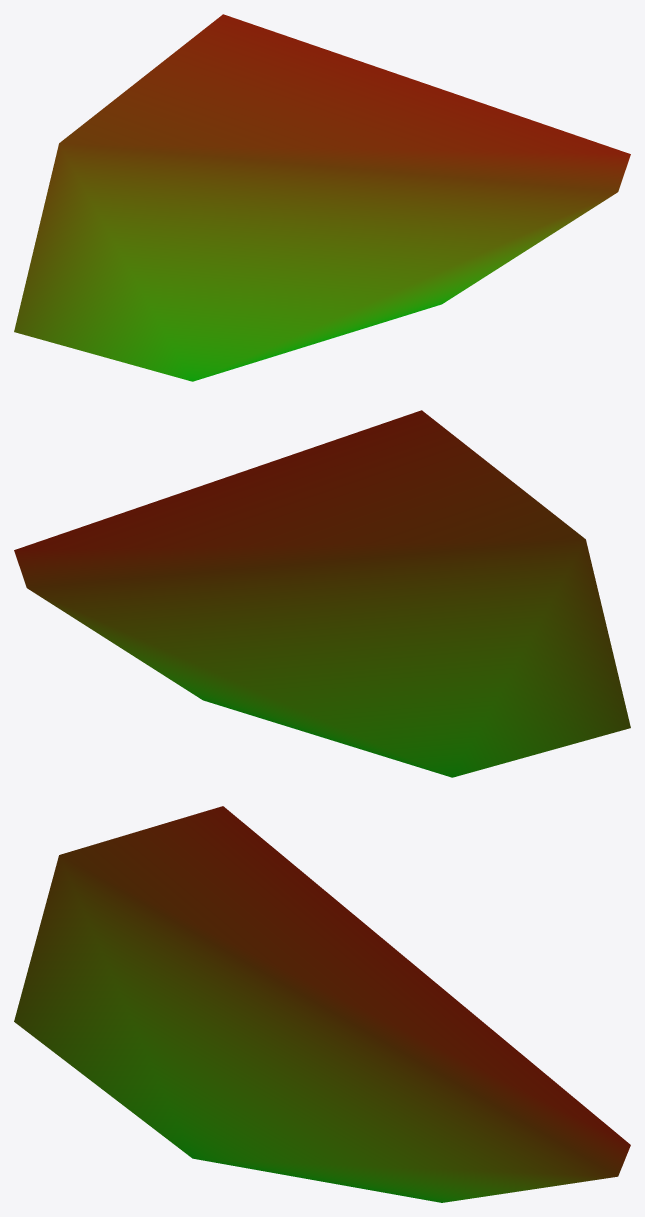
Rendered from Var11_LOD4.fbx.
3 views of the same model, one above another, from view 1: azimuth 30°, elevation 25°; view 2: azimuth 150°, elevation 25°; view 3: azimuth 330°, elevation 25° (orthographic).
Visible parts, largest first — view 1: _wnmu_Var11_LOD4; view 2: _wnmu_Var11_LOD4; view 3: _wnmu_Var11_LOD4.
Boxes of the visible parts, <box> form: _wnmu_Var11_LOD4: <box>14,14,630,381</box>; _wnmu_Var11_LOD4: <box>14,410,630,777</box>; _wnmu_Var11_LOD4: <box>14,806,630,1202</box>.
Bounding box in the file's own units: 36.74 × 20.49 × 1.04e-06.
